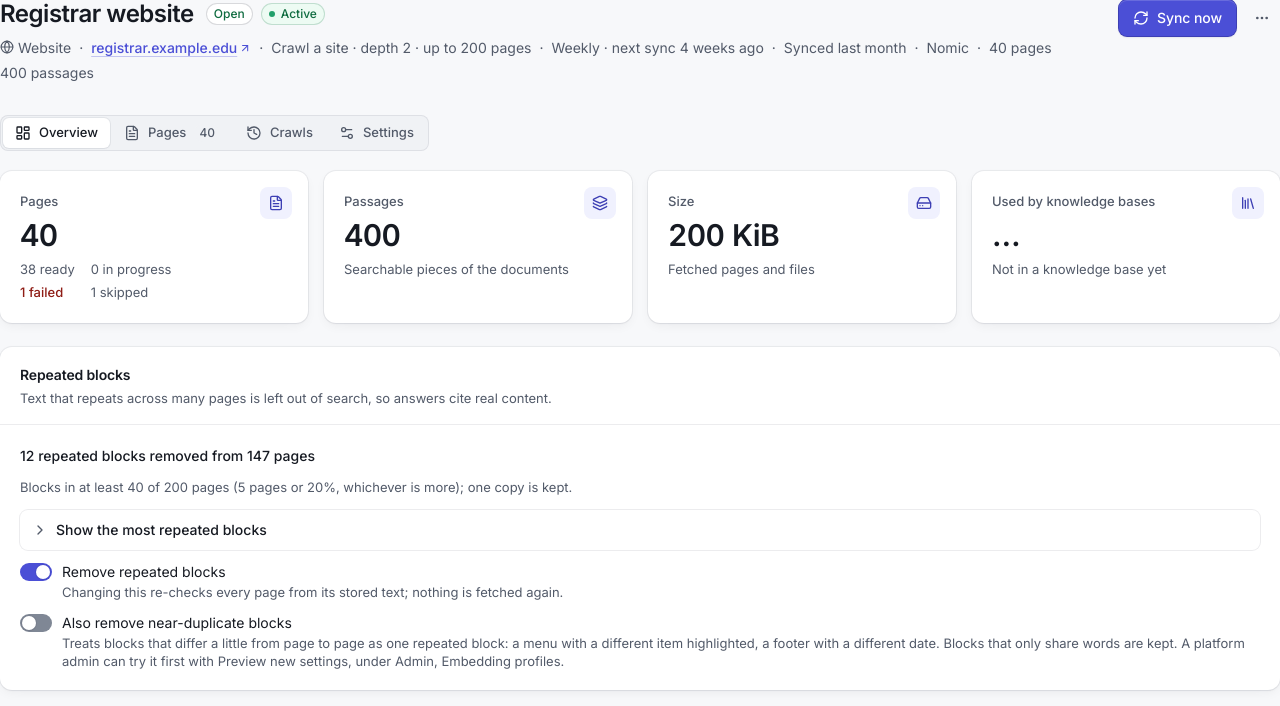
Scenario: Repeated blocks card › shows the count and lists the most repeated blocks on request
The image size is (1280, 706).
Expected: the text "12 repeated blocks removed from 147 pages" is shown, [20,445,315,466]
Click the button "Show the most repeated blocks". click: point(161, 530)
box: [20,510,1260,550]
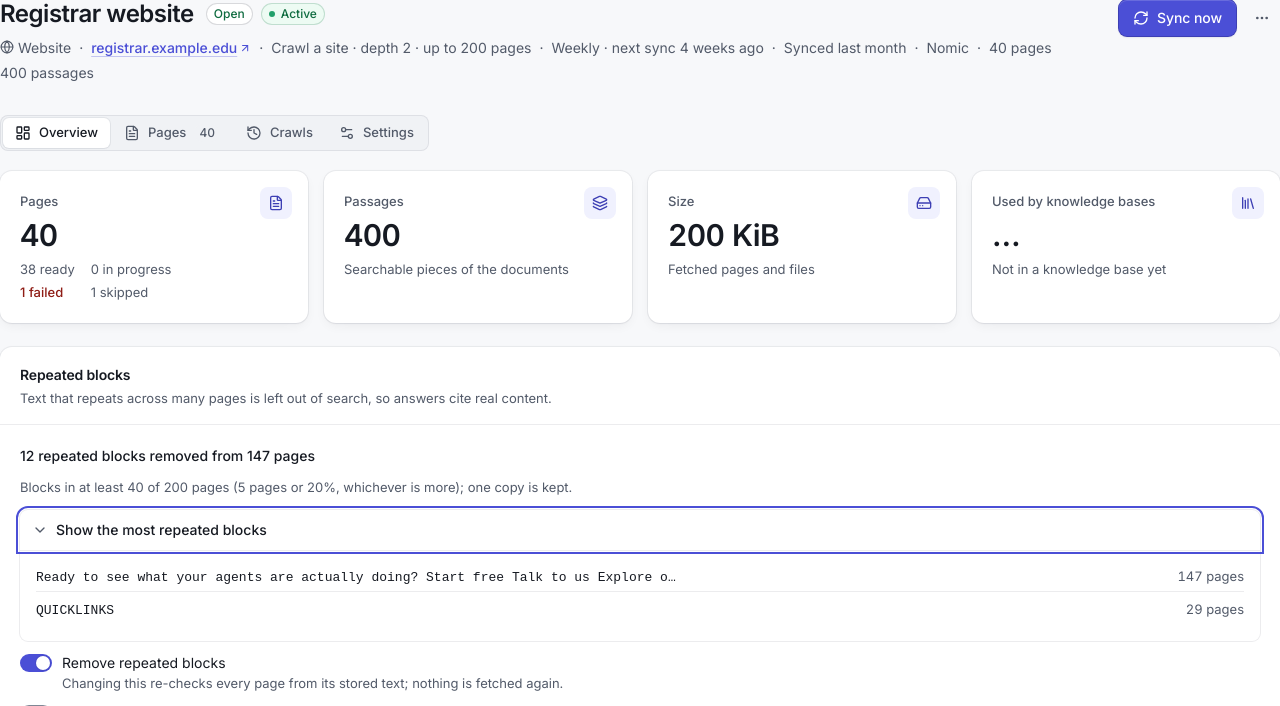
Now the text "147 pages" is shown, box [1177,567,1244,586]
Now the text "QUICKLINKS" is shown, box [36,601,114,621]
